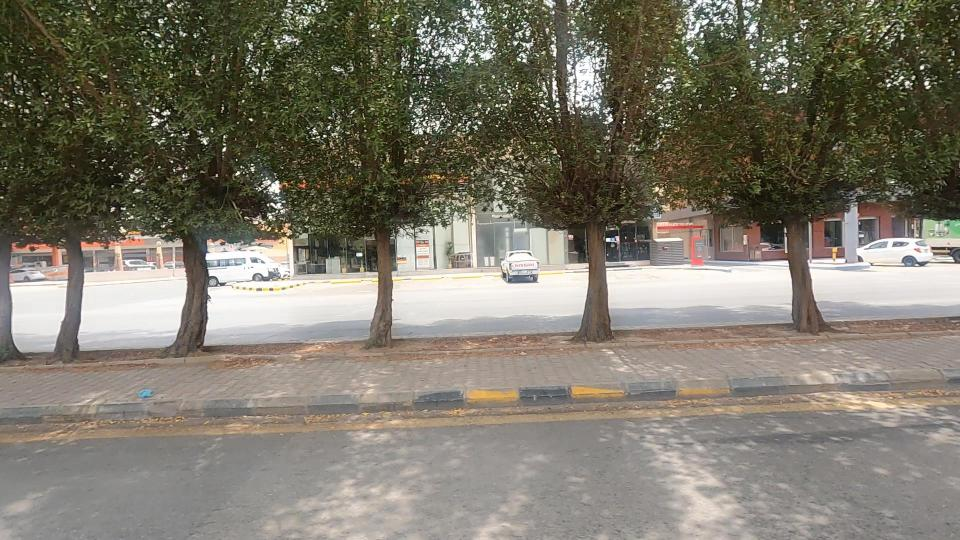BAD_BILLBOARD: (107, 361, 184, 427)
